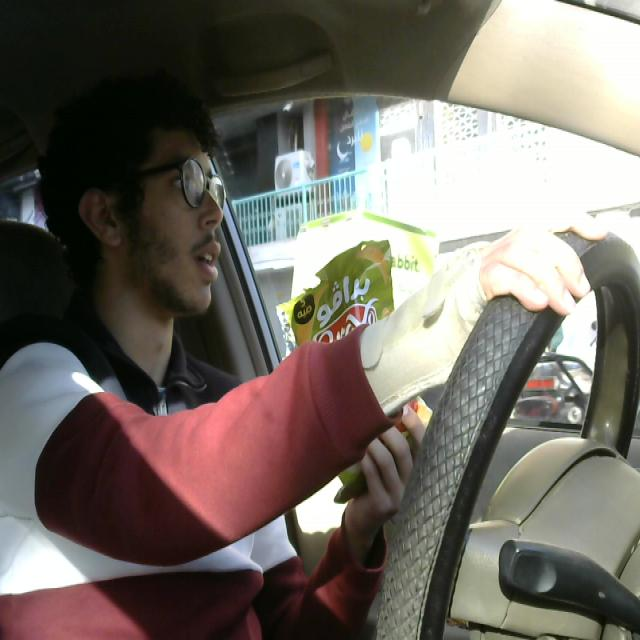eating: (275, 237, 452, 509)
